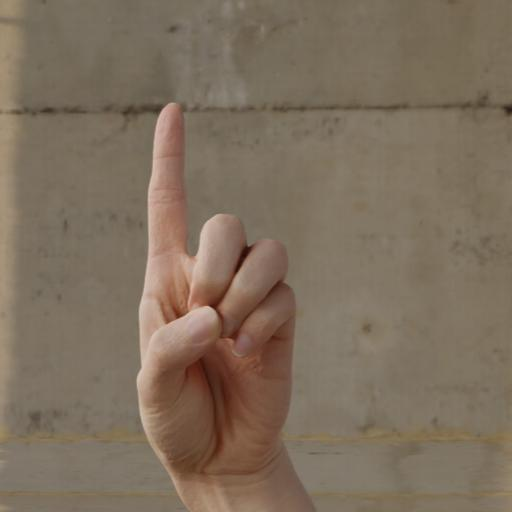D: (120, 92, 320, 469)
